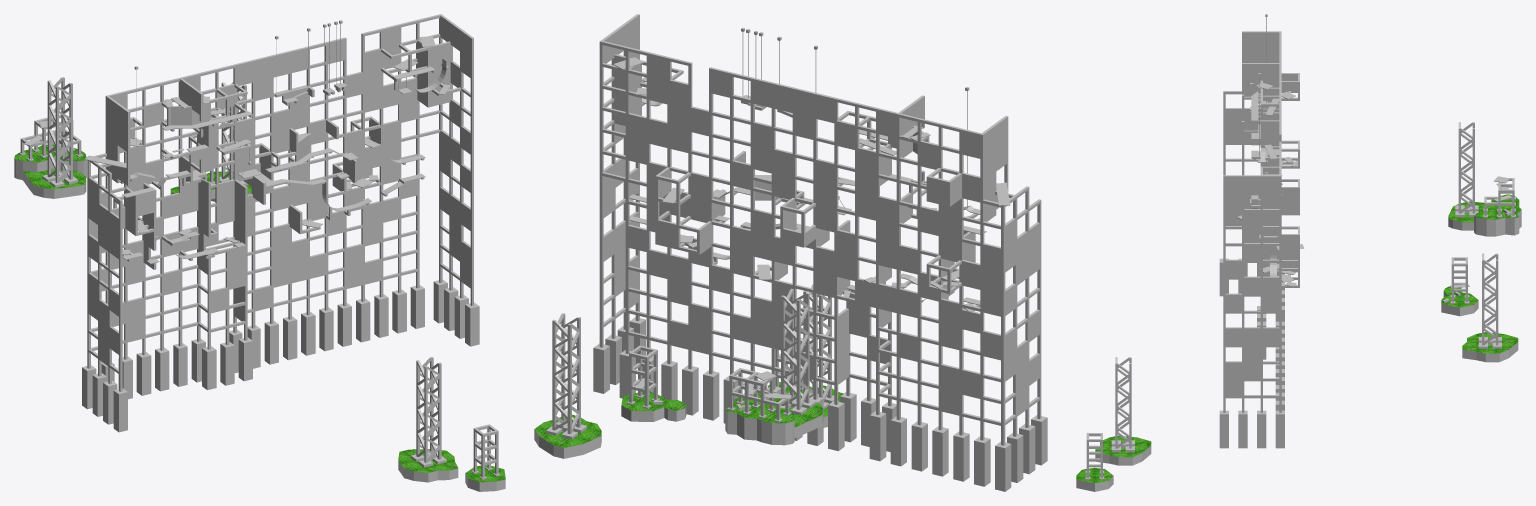
The model's file is dangerousdevelopment.fbx.
3 views of the same model, side by side, from view 1: azimuth 30°, elevation 25°; view 2: azimuth 150°, elevation 25°; view 3: azimuth 270°, elevation 25° (orthographic). The views are drawn at different scales.
Parts seen in each view (by area): view 1: Object; view 2: Object; view 3: Object.
Part boxes in pixels (<box>): Object: <box>14,14,505,491</box>; Object: <box>534,14,1047,491</box>; Object: <box>1076,14,1521,491</box>.
Size of the model in its own units: 15835 by 17050 by 19100.
